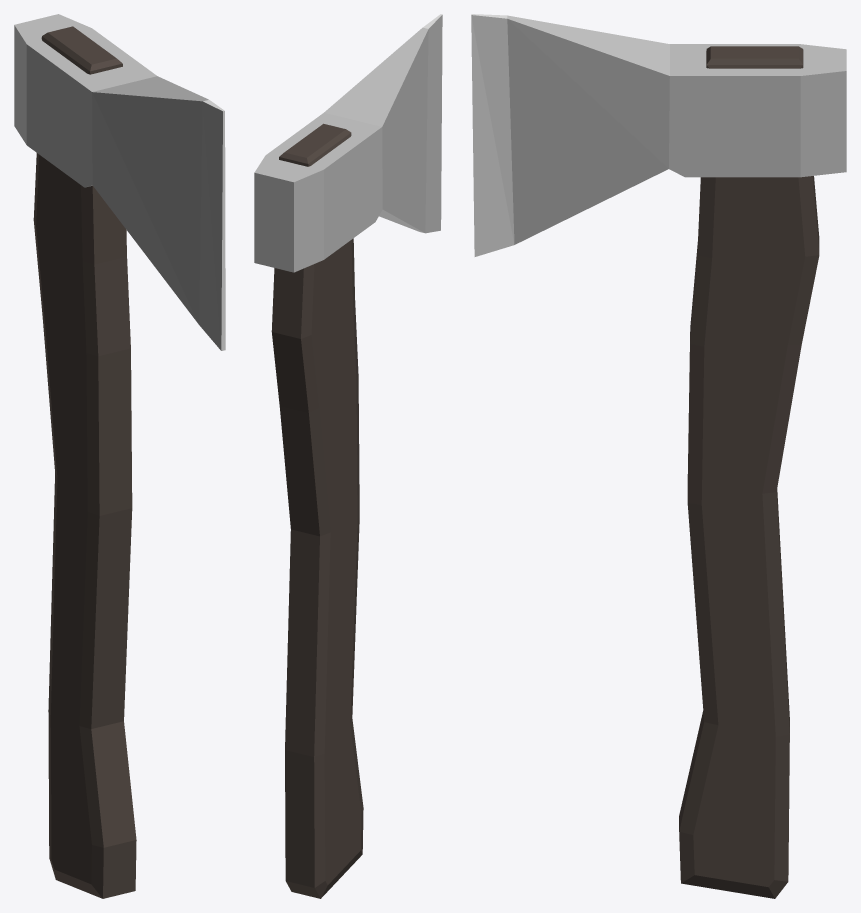
Rendered from Hatchet.fbx.
The picture shows the model from 3 angles, left to right: view 1: azimuth 30°, elevation 25°; view 2: azimuth 150°, elevation 25°; view 3: azimuth 270°, elevation 25°; orthographic projection. The views are drawn at different scales.
Parts seen in each view (by area): view 1: Body, Head; view 2: Body, Head; view 3: Body, Head.
Boxes of the visible parts, x1,y1,x2,y2 form: Body: (33,26,136,898); Head: (14,14,225,350); Body: (271,123,363,898); Head: (254,14,442,272); Body: (679,46,819,898); Head: (471,14,846,256).
Size of the model in its own units: 3.9 by 49.99 by 19.41.
Materials: 2 (2 with a texture image).
